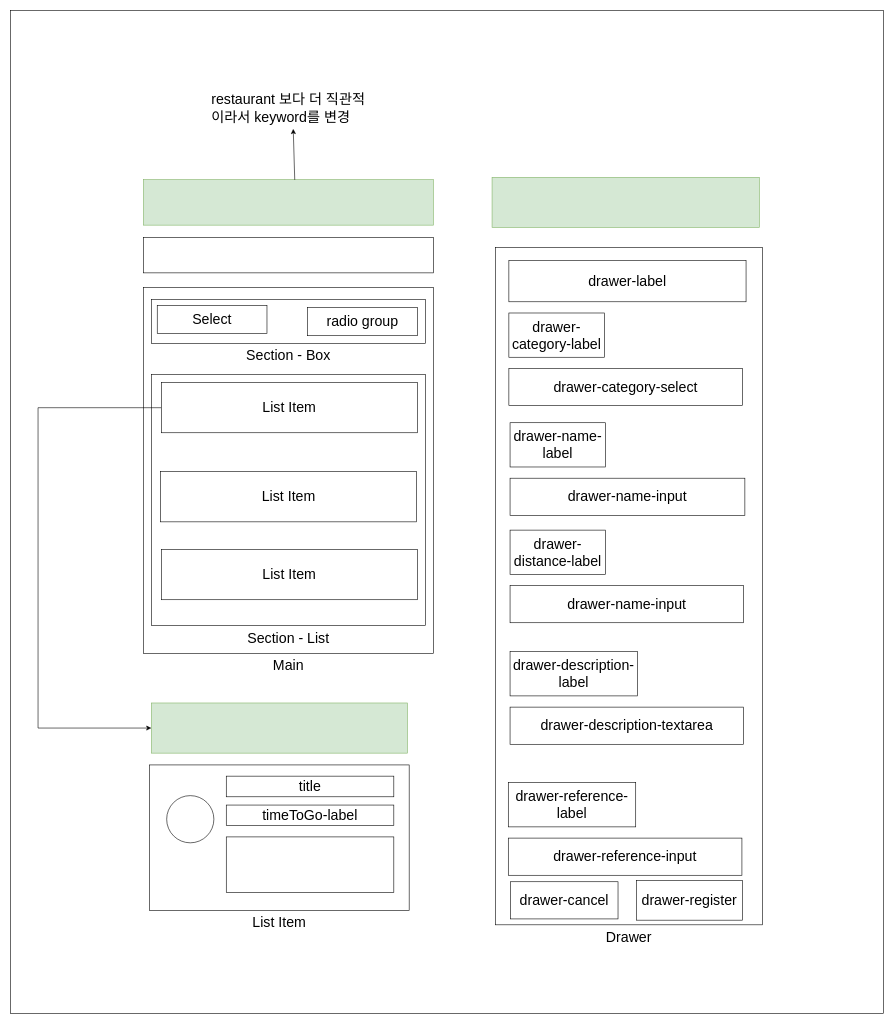
This 894x1024 diagram has some shape labels left out. Here are the shapes that lost their labels. From the top down, the centre of each, then its label:
the point at 288,202: Eating Place : 음식점
the point at 625,202: Eating Place Drawer
the point at 288,255: Header
the point at 279,727: Eating Place List Item
the point at 190,819: Icon
the point at 310,864: description
